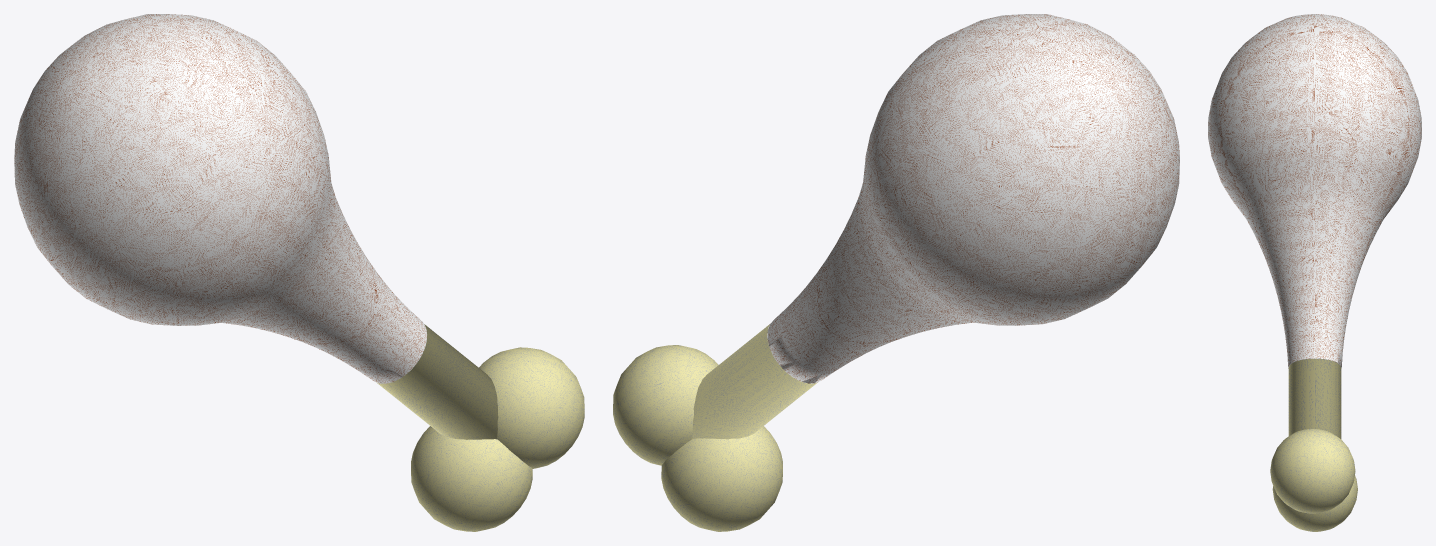
File: chicken.dae
3 renders of one model, left to right at view 1: azimuth 30°, elevation 25°; view 2: azimuth 150°, elevation 25°; view 3: azimuth 270°, elevation 25°, orthographic. The views are drawn at different scales.
Visible parts, largest first — view 1: SketchUp (×4); view 2: SketchUp (×4); view 3: SketchUp (×4).
Boxes of the visible parts, x1,y1,x2,y2 form: SketchUp (×4): [14, 14, 584, 531]; SketchUp (×4): [613, 14, 1179, 531]; SketchUp (×4): [1208, 14, 1421, 531].
Size of the model in its own units: 62.96 by 31.01 by 63.78.
